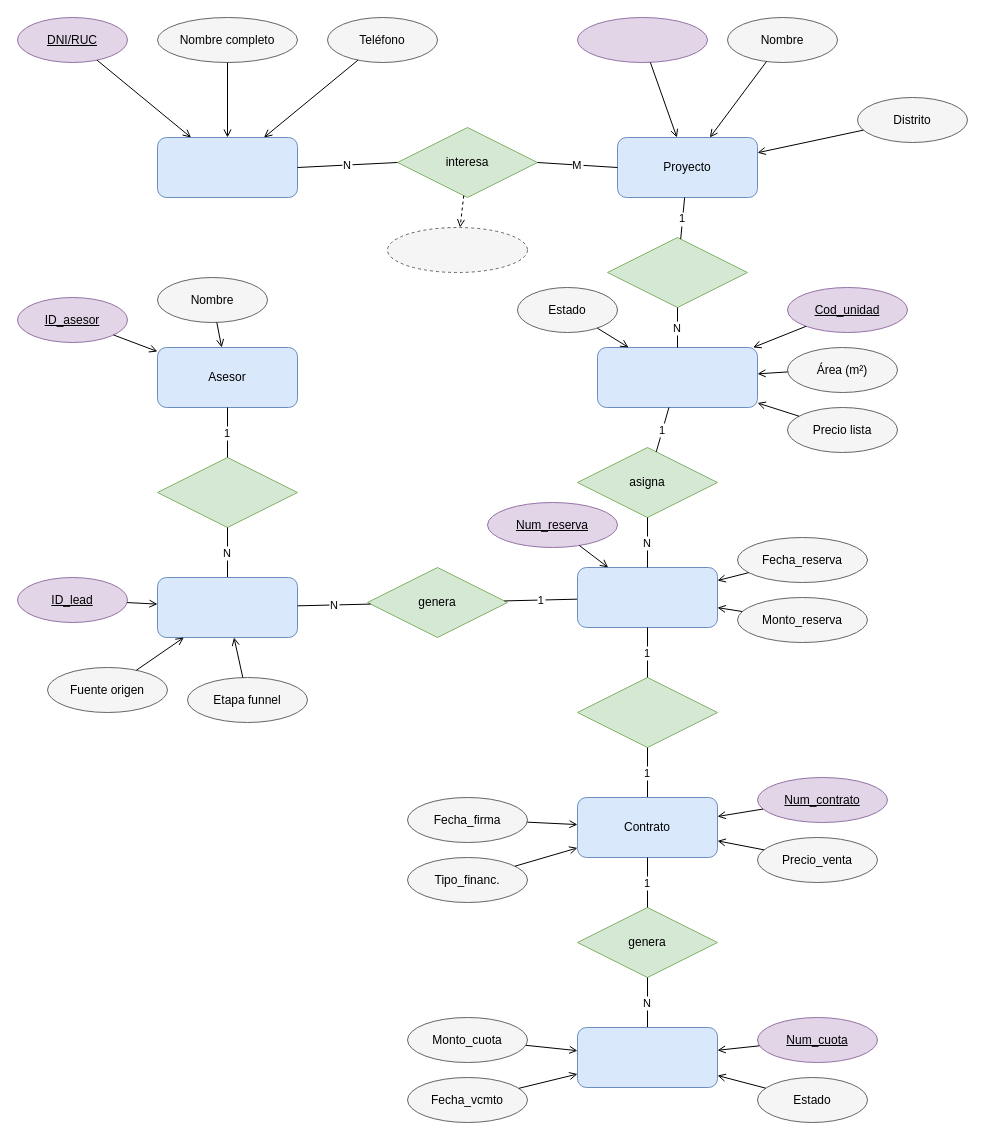
This 985x1140 diagram has some shape labels left out. The centre of each missing label's shape, as x and y in pixels:
Cliente: point 227,167
Cod_proyecto: point 642,39
contiene: point 677,272
Cuota: point 647,1057
Fecha_contacto: point 457,249
gestiona: point 227,492
Lead: point 227,607
origina: point 647,712
Reserva: point 647,597
Unidad inmobiliaria: point 677,377
